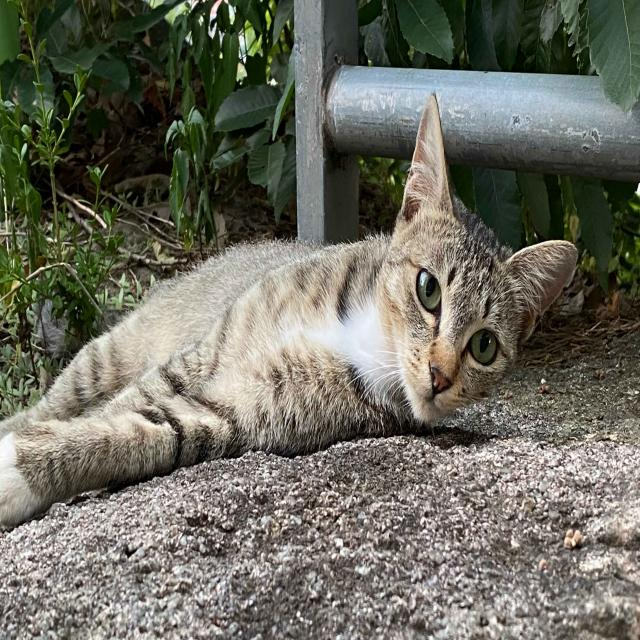cat: (1, 82, 573, 546)
